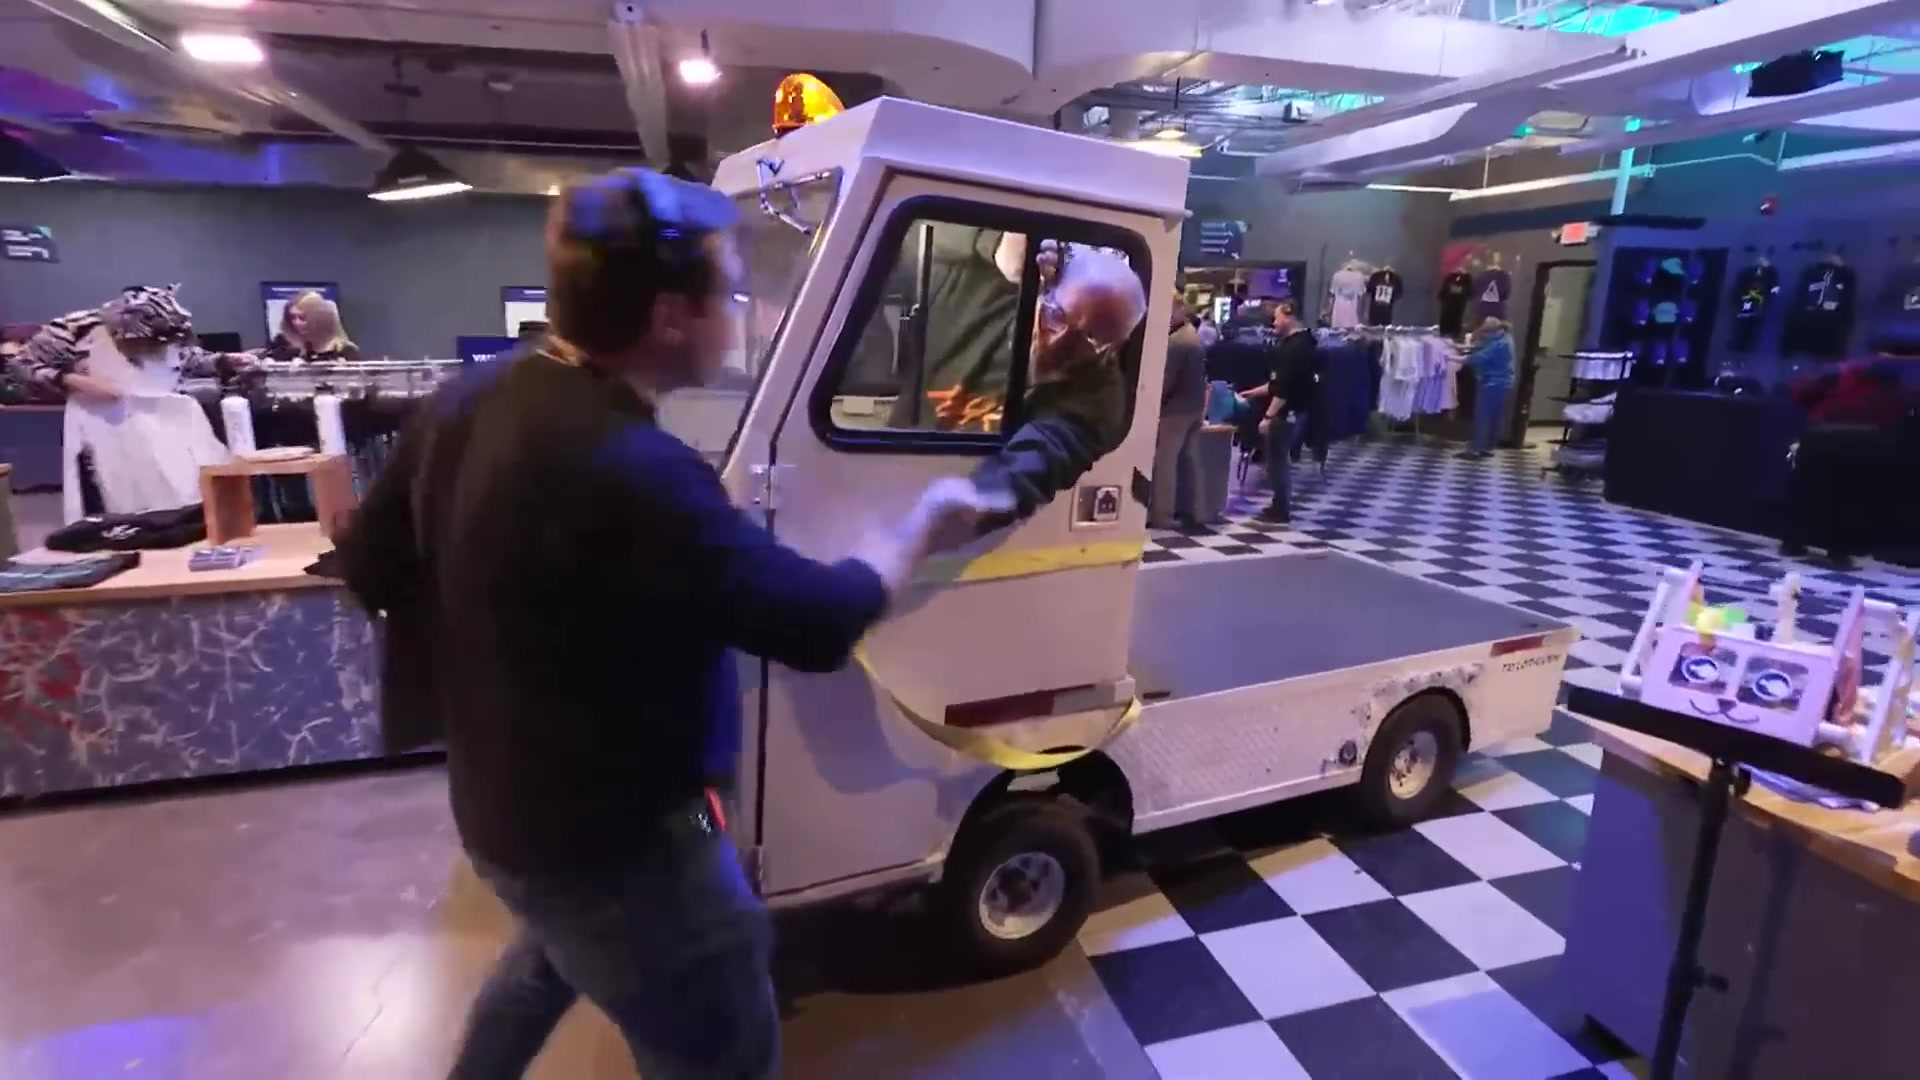combatbot: (1638, 554, 1920, 796)
